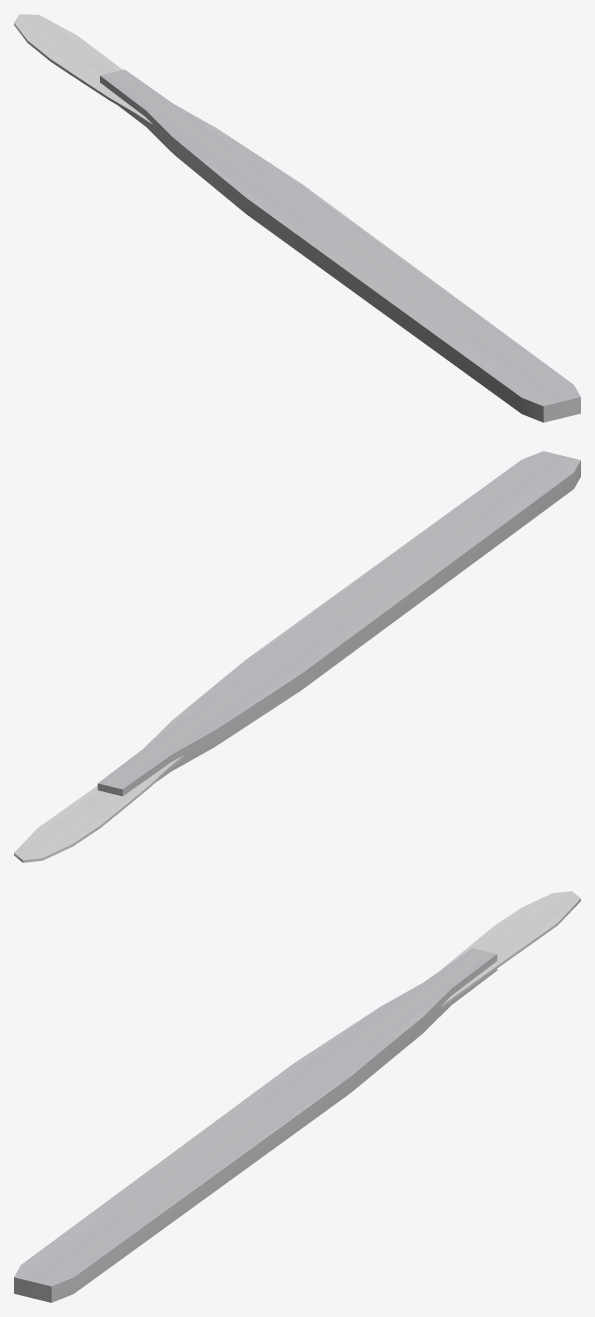
The model's file is s1c_scalpel_15.glb.
3 renders of one model, top to bottom at view 1: azimuth 30°, elevation 25°; view 2: azimuth 150°, elevation 25°; view 3: azimuth 330°, elevation 25°, orthographic.
Visible parts, largest first — view 1: s1c_scalpel_15; view 2: s1c_scalpel_15; view 3: s1c_scalpel_15.
Part boxes in pixels (left/top/right/bottom): s1c_scalpel_15: left=14, top=14, right=580, bottom=422; s1c_scalpel_15: left=14, top=451, right=580, bottom=862; s1c_scalpel_15: left=14, top=891, right=580, bottom=1302.
Size of the model in its own units: 0.009 by 0.0025 by 0.15.
1 material, 1 textured.
